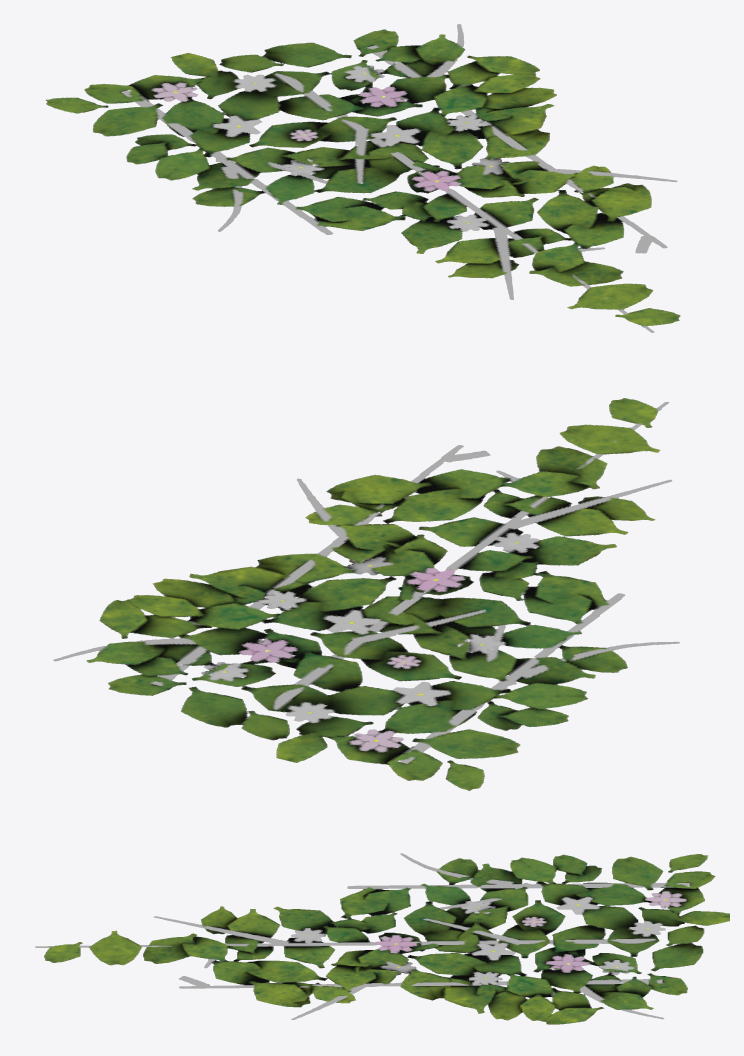
Rendered from Flowers_Bush_02.fbx.
3 views of the same model, one above another, from view 1: azimuth 30°, elevation 25°; view 2: azimuth 150°, elevation 25°; view 3: azimuth 270°, elevation 25° (orthographic). The views are drawn at different scales.
Parts seen in each view (by area): view 1: Flowers_Bush_02; view 2: Flowers_Bush_02; view 3: Flowers_Bush_02.
Boxes of the visible parts, <box> form: Flowers_Bush_02: <box>45,24,680,332</box>; Flowers_Bush_02: <box>53,398,679,790</box>; Flowers_Bush_02: <box>35,853,729,1024</box>.
Size of the model in its own units: 2.11 by 5.53e-07 by 3.1.
